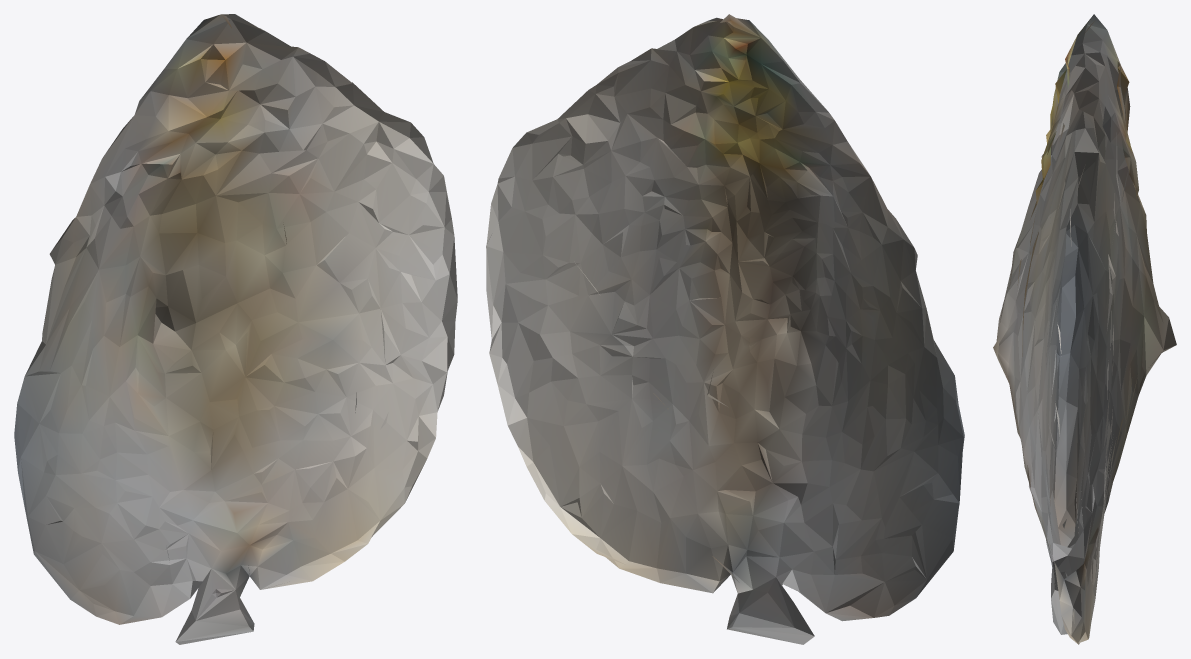
The model's file is fish-discus.glb.
The picture shows the model from 3 angles, left to right: view 1: azimuth 30°, elevation 25°; view 2: azimuth 150°, elevation 25°; view 3: azimuth 270°, elevation 25°; orthographic projection. The views are drawn at different scales.
Visible parts, largest first — view 1: world; view 2: world; view 3: world.
Part boxes in pixels (<box>): world: <box>14,14,457,644</box>; world: <box>486,14,964,644</box>; world: <box>993,14,1176,644</box>.
Bounding box in the file's own units: 0.7476 × 0.961 × 0.2648.
